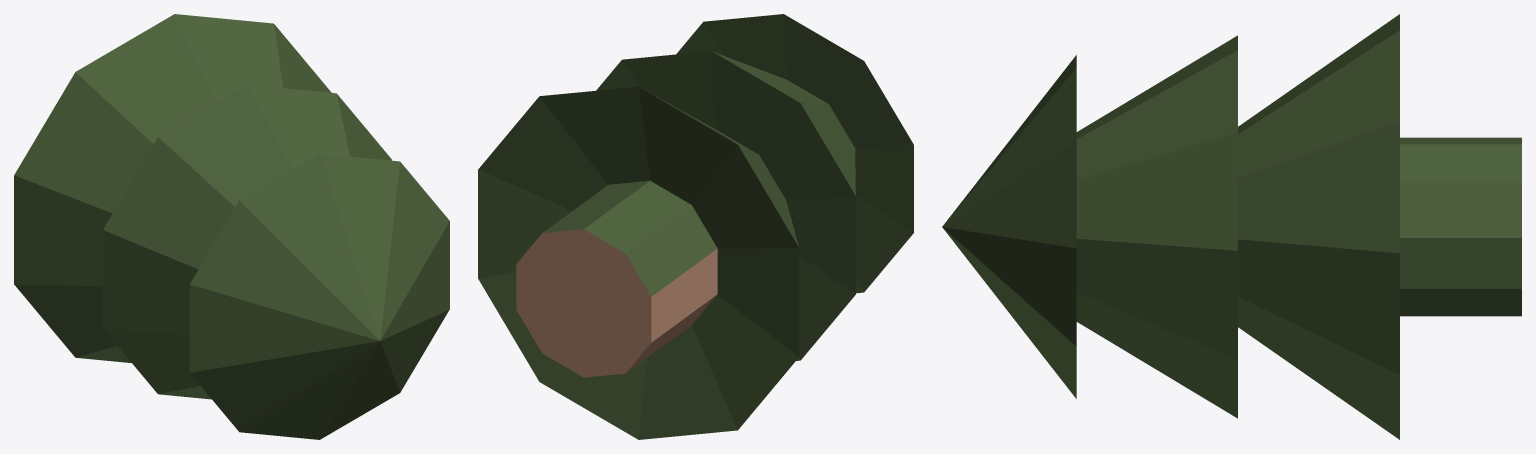
File: tree.obj
3 renders of one model, left to right at view 1: azimuth 30°, elevation 25°; view 2: azimuth 150°, elevation 25°; view 3: azimuth 270°, elevation 25°, orthographic. The views are drawn at different scales.
Parts seen in each view (by area): view 1: tree_Cylinder; view 2: tree_Cylinder; view 3: tree_Cylinder.
Boxes of the visible parts, <box> form: tree_Cylinder: <box>14,14,449,439</box>; tree_Cylinder: <box>478,14,913,439</box>; tree_Cylinder: <box>942,14,1521,439</box>.
Size of the model in its own units: 2.35 by 2.47 by 3.3.
1 material, 1 textured.
